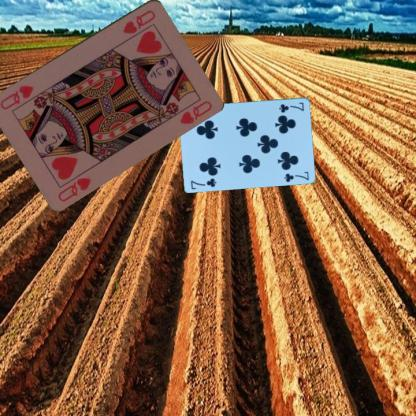7c: (277, 99, 305, 114), (188, 176, 218, 190)
Qh: (55, 174, 93, 203), (120, 7, 157, 35)
